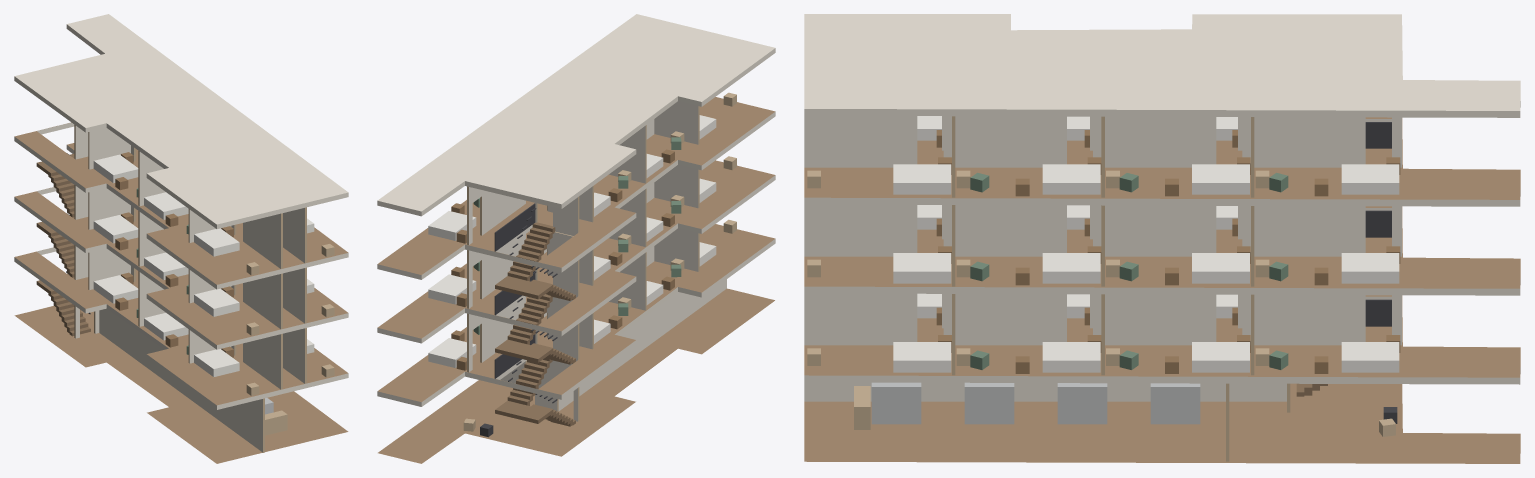
File: interior.glb
3 renders of one model, left to right at view 1: azimuth 30°, elevation 25°; view 2: azimuth 150°, elevation 25°; view 3: azimuth 270°, elevation 25°, orthographic. The views are drawn at different scales.
Visible parts, largest first — view 1: slabs, partitions, coarse-s2, coarse-s1, coarse-s3, stair, coarse-s0; view 2: slabs, partitions, stair, coarse-s2, coarse-s1, coarse-s3; view 3: slabs, partitions, coarse-s3, coarse-s2, coarse-s1, coarse-s0, stair.
Boxes of the visible parts, x1=… form: slabs: x1=14, y1=14, x2=348, y2=463; partitions: x1=74, y1=125, x2=306, y2=452; coarse-s2: x1=93, y1=212, x2=334, y2=335; coarse-s1: x1=93, y1=272, x2=334, y2=395; coarse-s3: x1=93, y1=152, x2=334, y2=275; stair: x1=36, y1=153, x2=90, y2=336; coarse-s0: x1=265, y1=398, x2=287, y2=435; slabs: x1=377, y1=14, x2=775, y2=463; partitions: x1=467, y1=101, x2=726, y2=421; stair: x1=494, y1=203, x2=575, y2=426; coarse-s2: x1=428, y1=156, x2=736, y2=306; coarse-s1: x1=428, y1=219, x2=736, y2=370; coarse-s3: x1=428, y1=92, x2=736, y2=243; slabs: x1=804, y1=14, x2=1520, y2=463; partitions: x1=804, y1=115, x2=1401, y2=461; coarse-s3: x1=807, y1=116, x2=1400, y2=196; coarse-s2: x1=807, y1=205, x2=1400, y2=285; coarse-s1: x1=807, y1=293, x2=1400, y2=373; coarse-s0: x1=854, y1=382, x2=1397, y2=436; stair: x1=1296, y1=122, x2=1391, y2=396.
Size of the model in its own units: 7.91 by 13.43 by 24.67.
